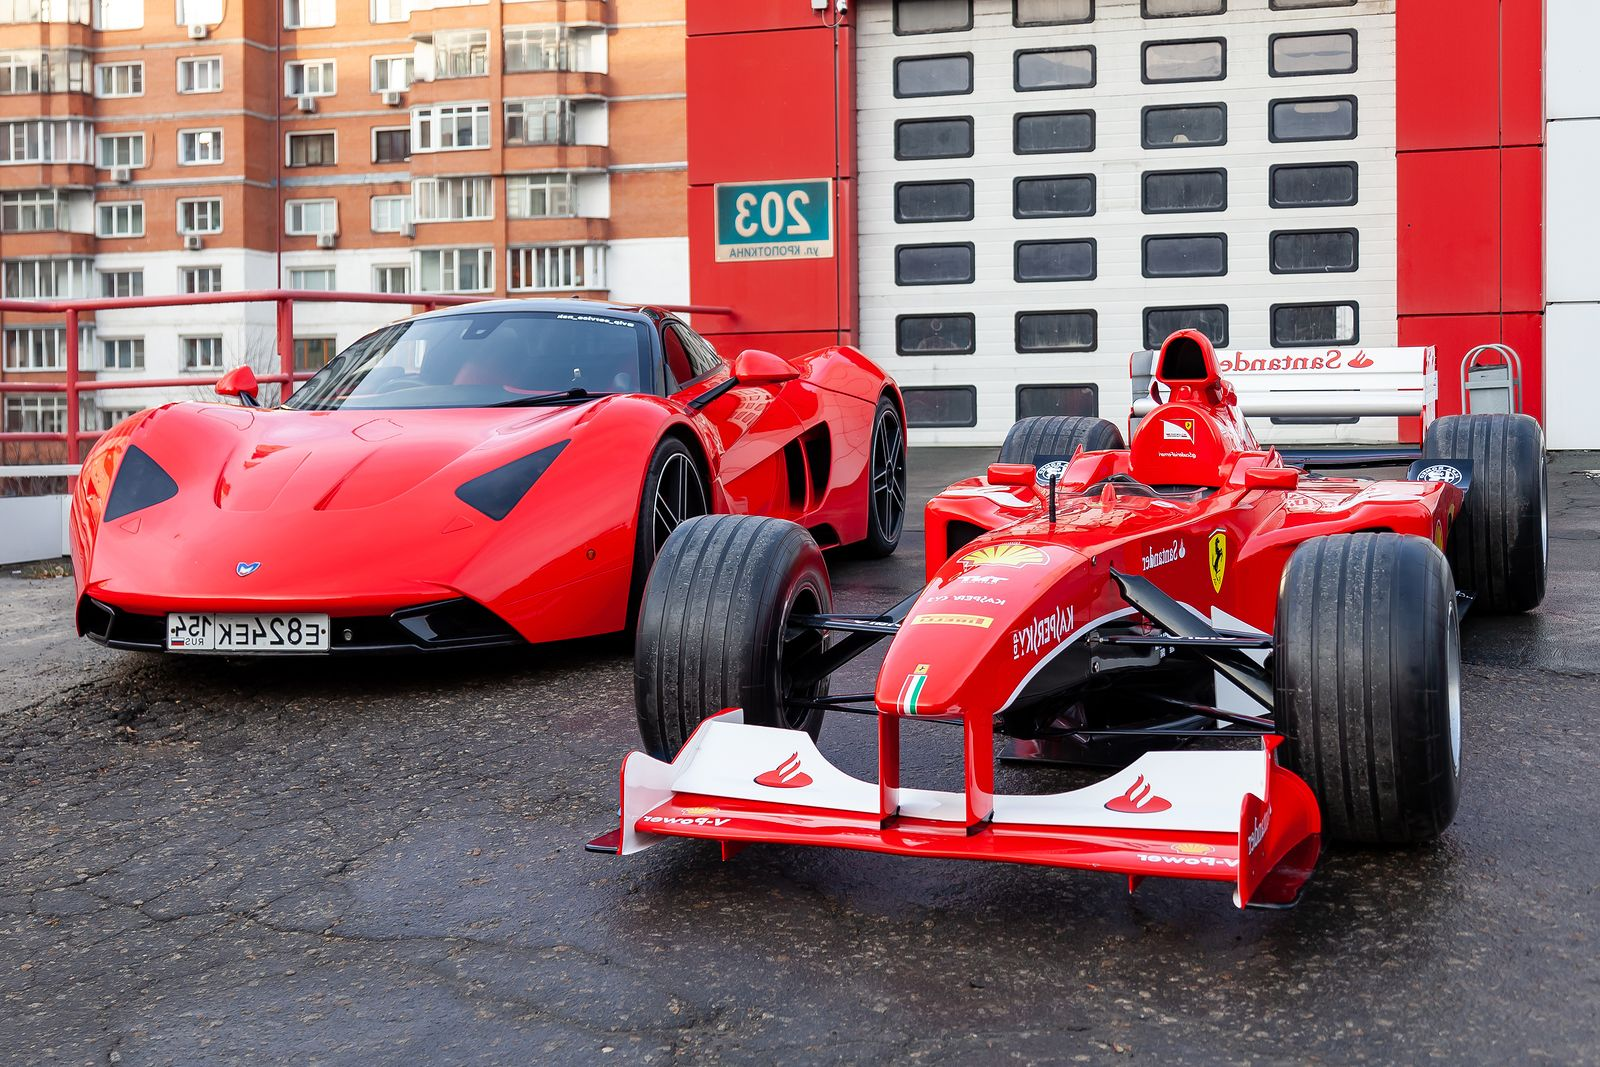car: (560, 323, 1560, 901), (51, 286, 920, 667)
